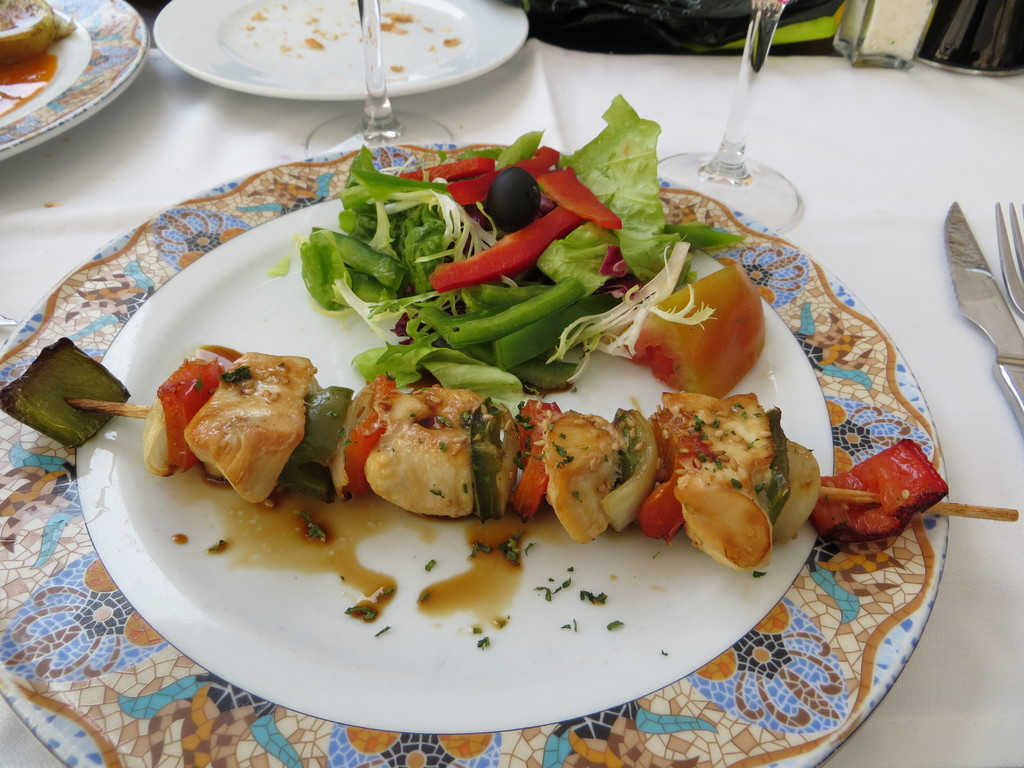salad: (271, 95, 773, 394)
